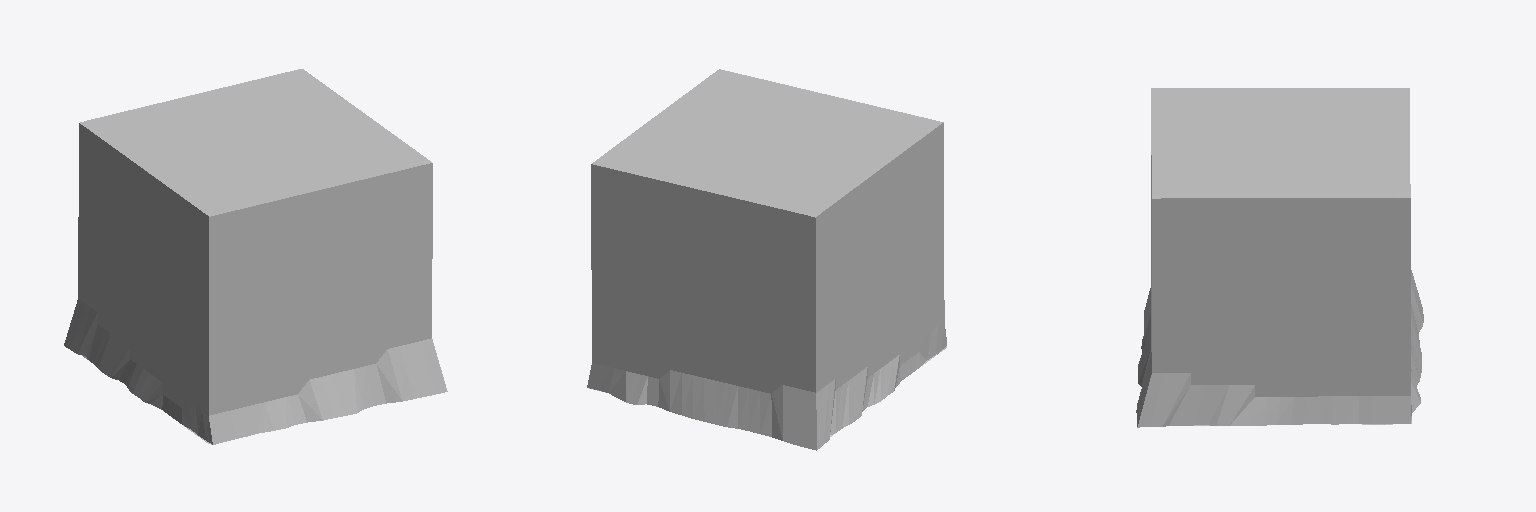
File: mod0209.obj
3 views of the same model, side by side, from view 1: azimuth 30°, elevation 25°; view 2: azimuth 150°, elevation 25°; view 3: azimuth 270°, elevation 25° (orthographic).
Visible parts, largest first — view 1: Box001; view 2: Box001; view 3: Box001.
Part boxes in pixels (bbox=[...]): Box001: bbox=[64, 69, 447, 444]; Box001: bbox=[587, 69, 946, 450]; Box001: bbox=[1136, 88, 1423, 427].
Bounding box in the file's own units: 0.5799 × 0.5218 × 0.5979.